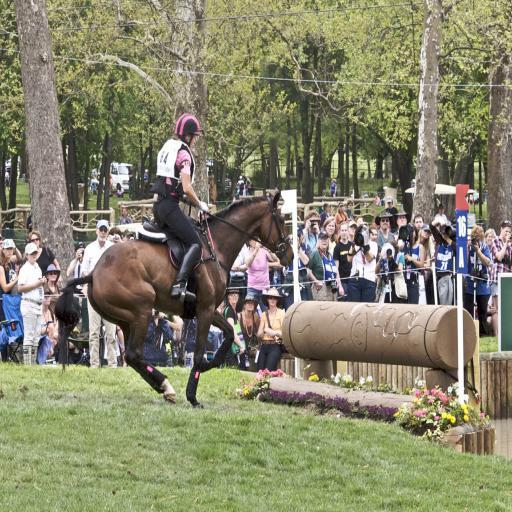Horse: (53, 190, 295, 404)
